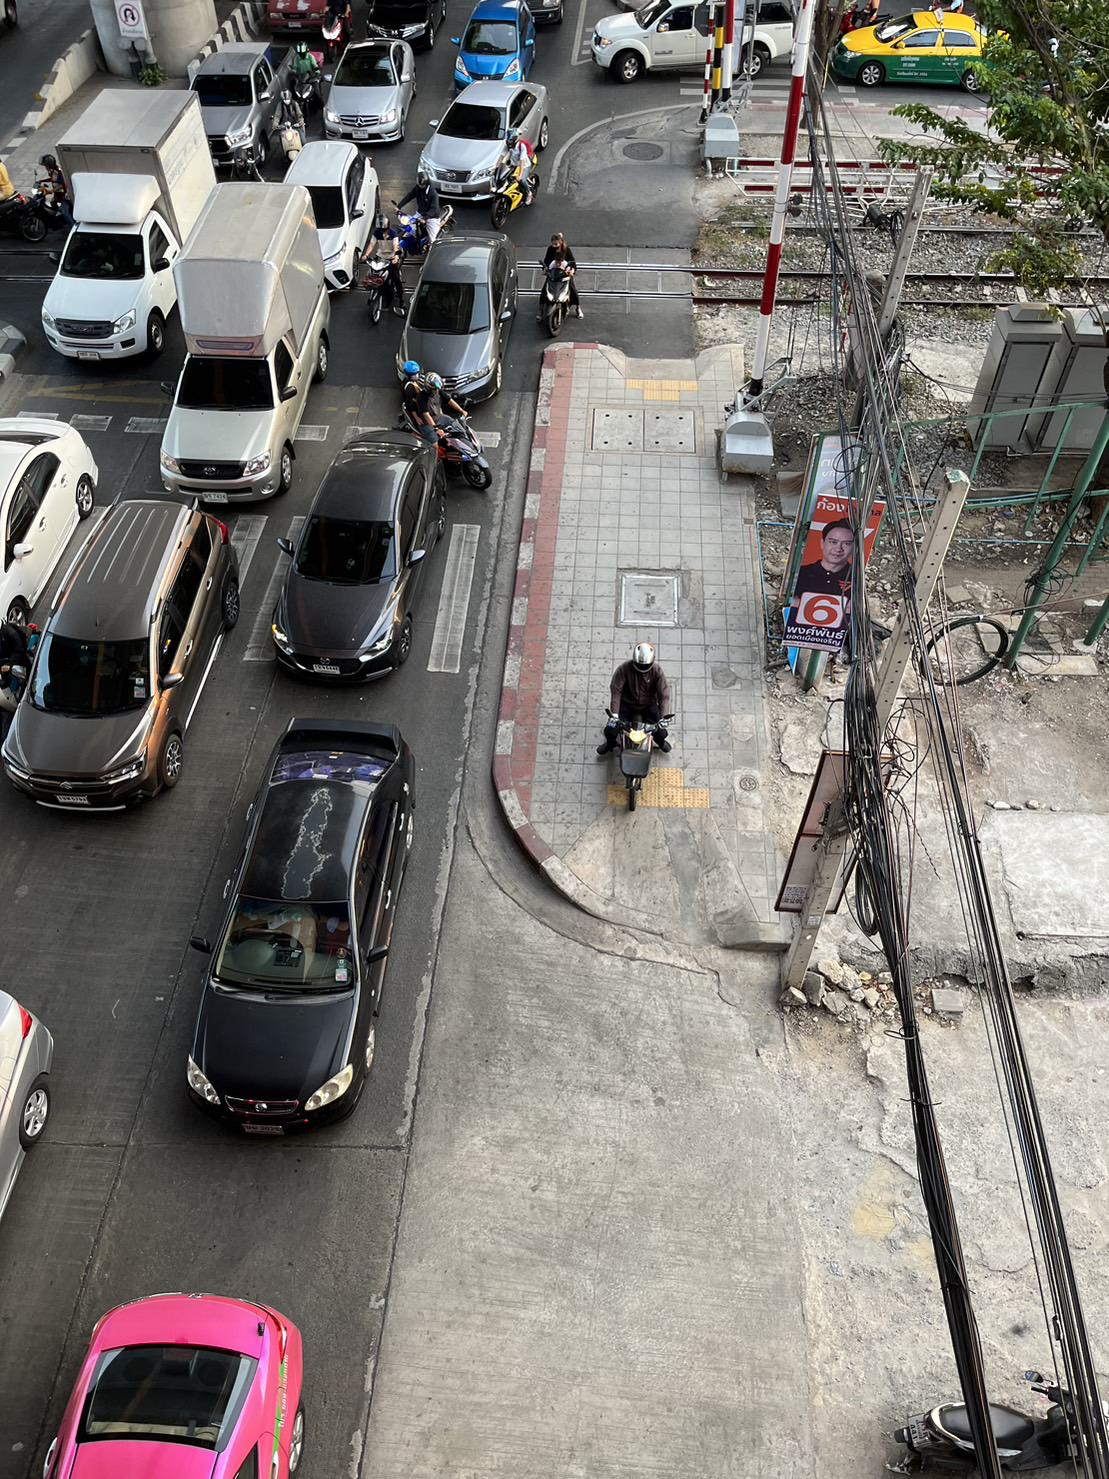Banner: (782, 432, 877, 665)
